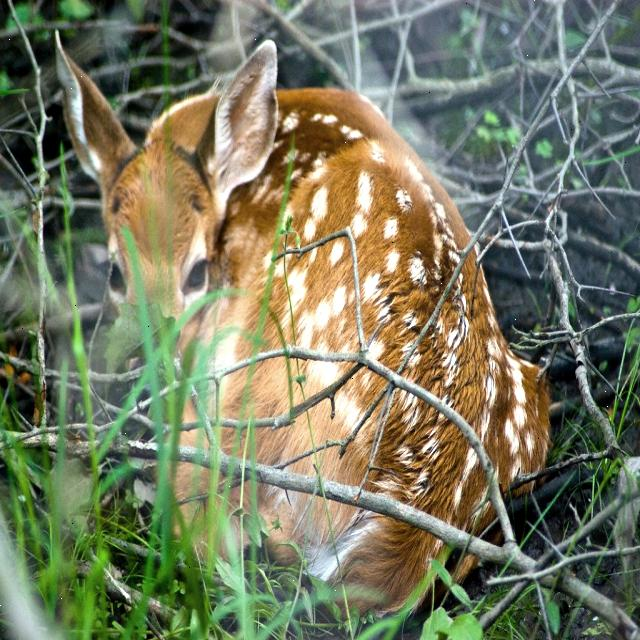deer: (48, 21, 552, 611)
